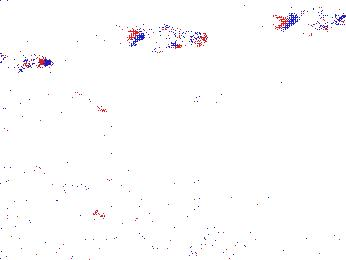X-ray fish: (103, 216, 147, 253), (273, 209, 313, 240)
red belly glassfish: (1, 50, 53, 75)
redtail glassfish: (126, 23, 214, 54), (274, 6, 346, 39)
